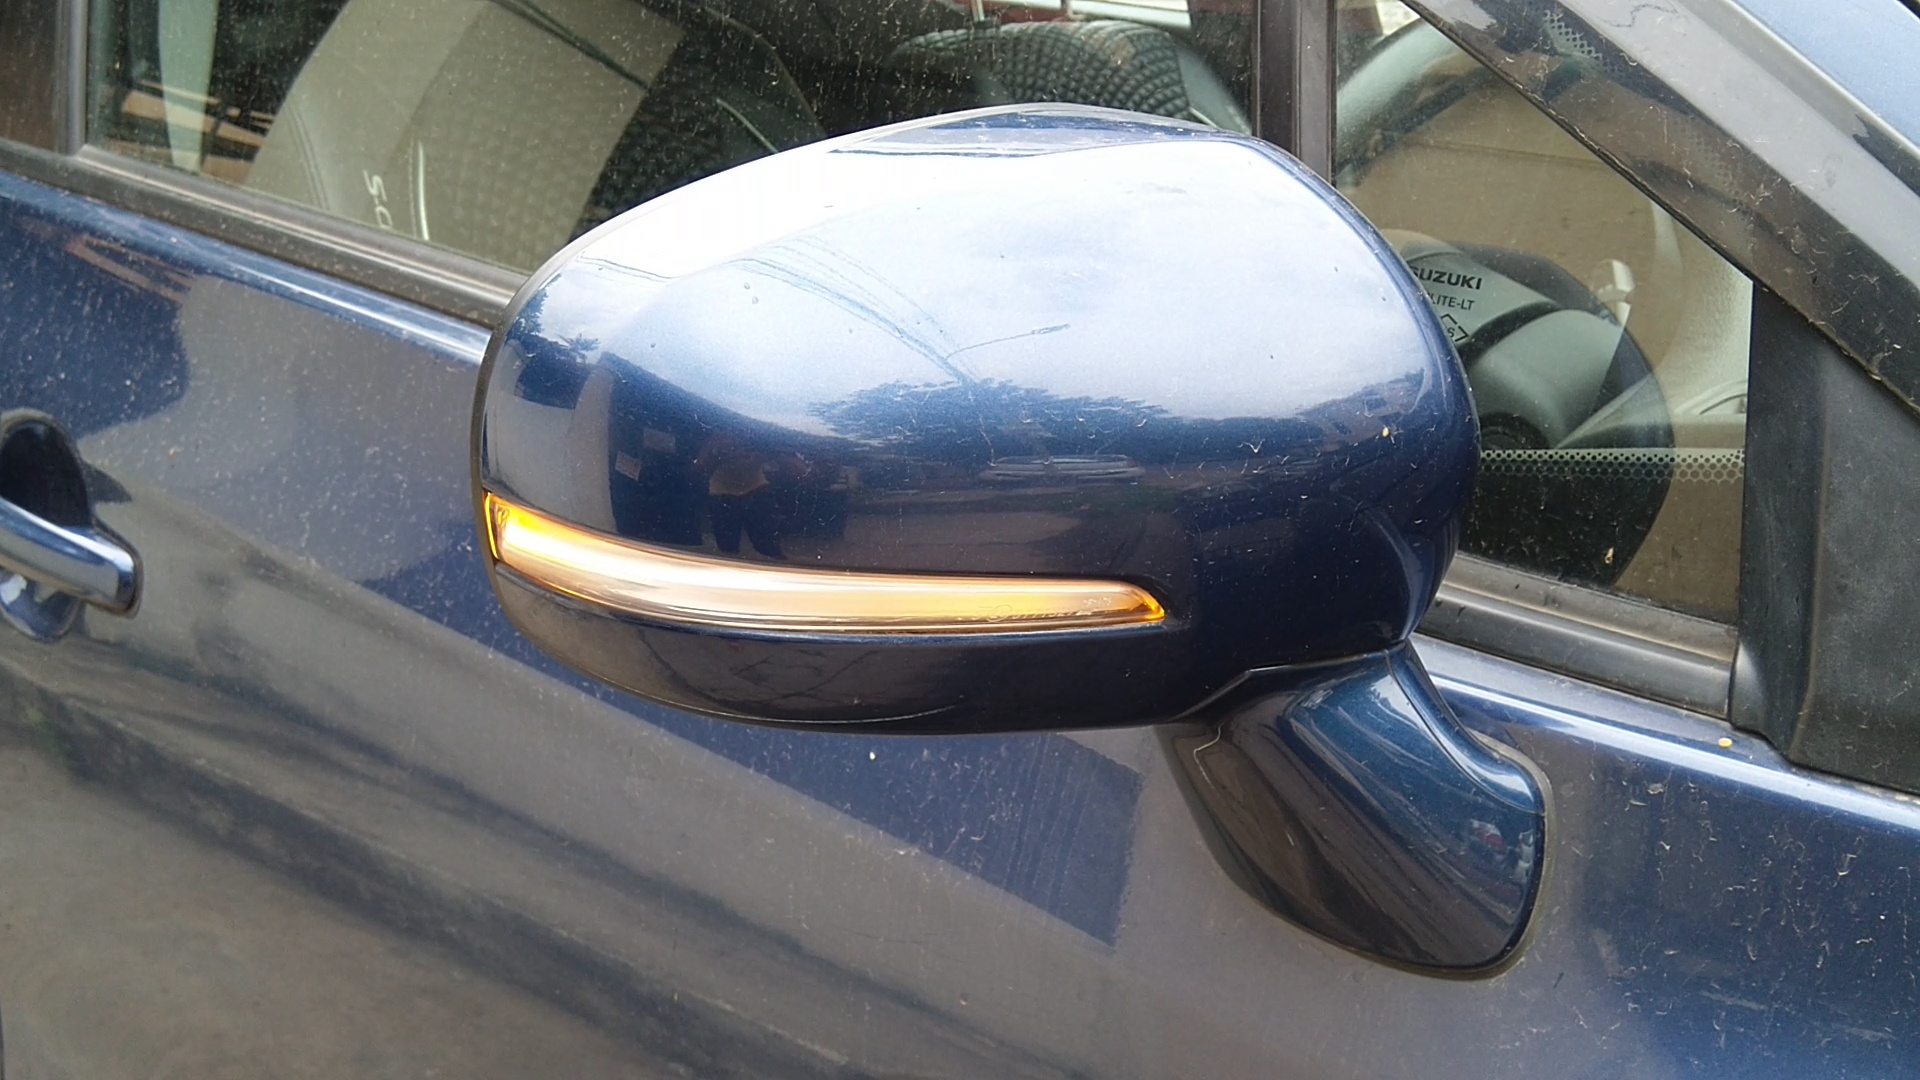ovr_mirror: (446, 65, 1571, 1025)
